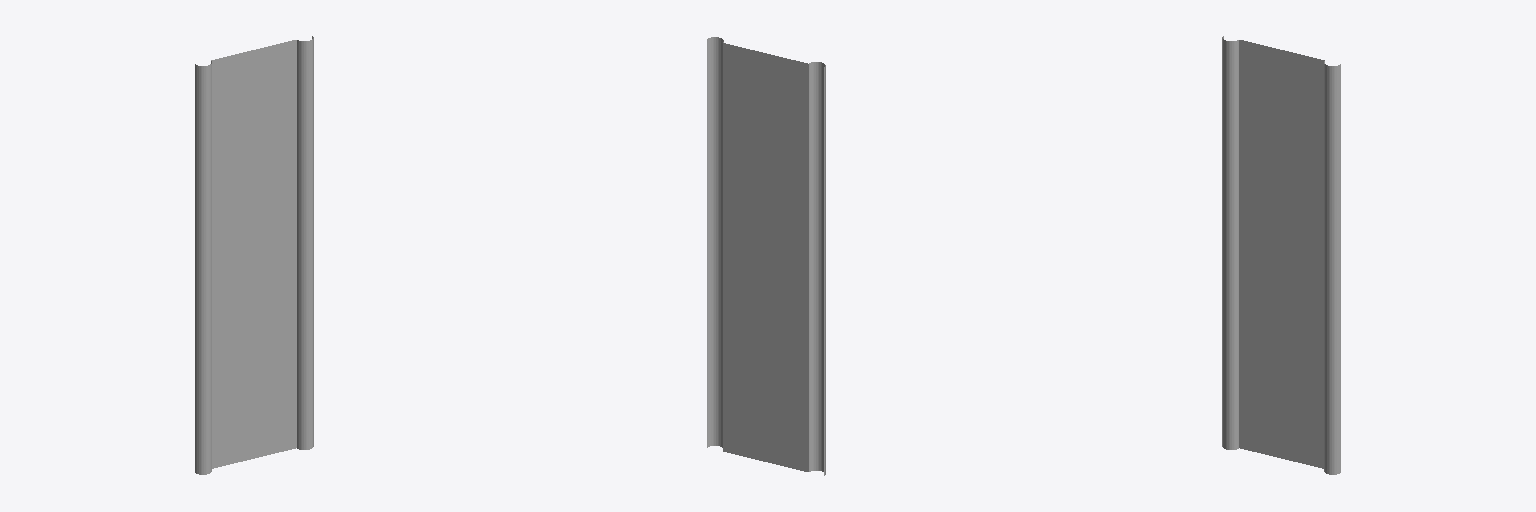
Rendered from bowlingring1.obj.
3 renders of one model, left to right at view 1: azimuth 30°, elevation 25°; view 2: azimuth 150°, elevation 25°; view 3: azimuth 330°, elevation 25°, orthographic.
Visible parts, largest first — view 1: Plane; view 2: Plane; view 3: Plane.
Boxes of the visible parts, box(x1,y1,x2,y2) form: Plane: box(195, 36, 313, 474); Plane: box(707, 37, 825, 475); Plane: box(1222, 36, 1340, 474).
Size of the model in its own units: 3 by 10 by 0.2.